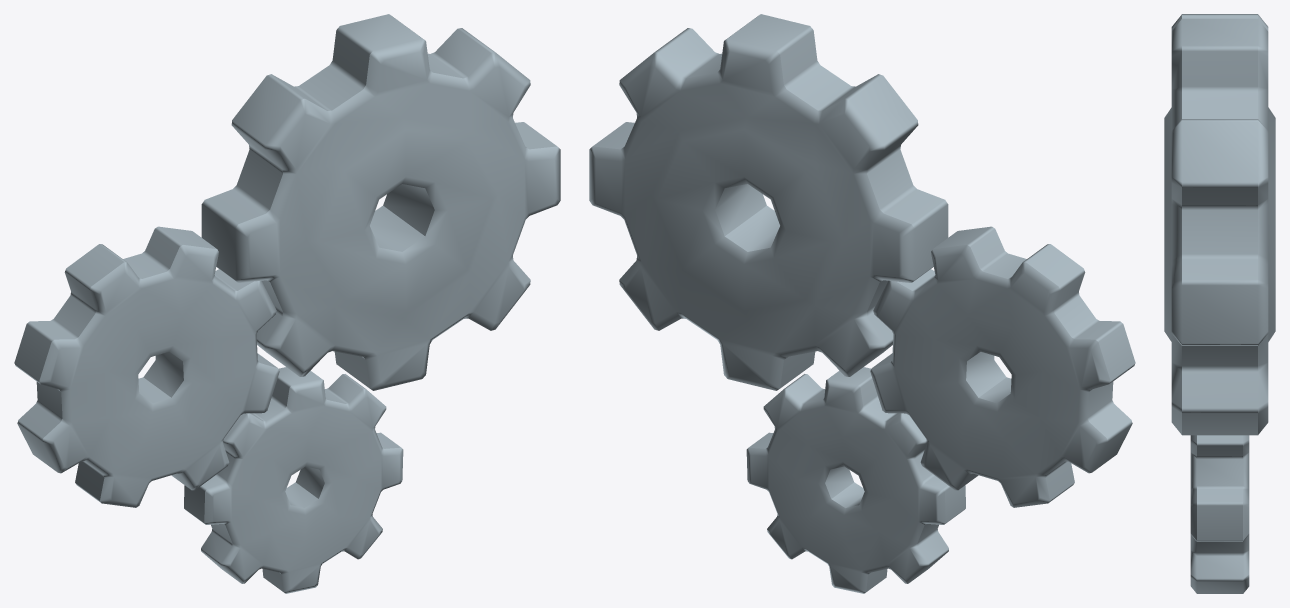
3 views of the same model, side by side, from view 1: azimuth 30°, elevation 25°; view 2: azimuth 150°, elevation 25°; view 3: azimuth 270°, elevation 25° (orthographic). The views are drawn at different scales.
Visible parts, largest first — view 1: model_0.012; view 2: model_0.012; view 3: model_0.012.
Boxes of the visible parts, left/top/right/bottom form: model_0.012: left=14, top=14, right=560, bottom=593; model_0.012: left=589, top=14, right=1135, bottom=593; model_0.012: left=1164, top=14, right=1275, bottom=593.
Bounding box in the file's own units: 4.17 × 4.08 × 0.6885.
